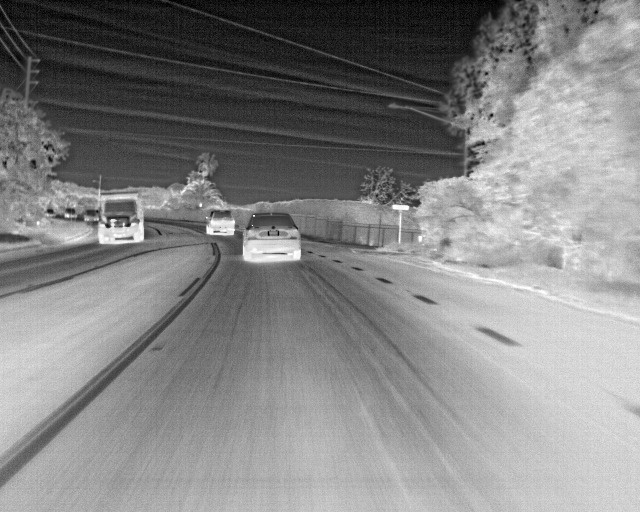vehicle: (242, 213, 304, 263), (97, 192, 142, 243), (208, 210, 234, 237), (82, 206, 97, 223), (63, 207, 78, 221)
